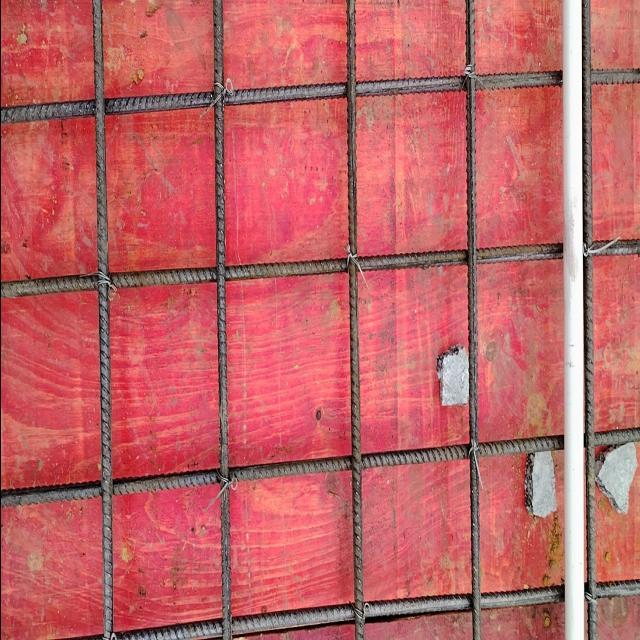ribbed bar: (1, 425, 640, 509), (1, 238, 640, 301), (1, 62, 640, 124), (57, 577, 640, 639), (212, 0, 234, 639), (91, 0, 113, 639), (462, 0, 482, 639), (346, 0, 364, 639), (582, 0, 598, 639)
